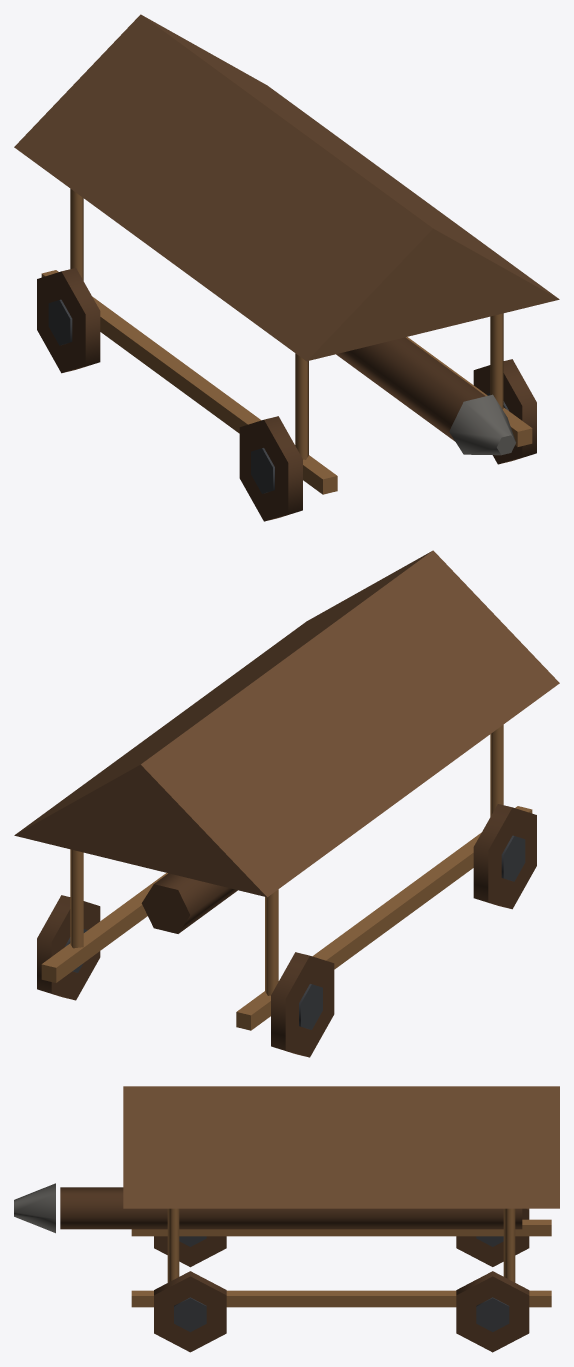
File: unit_mil_ram_a01_lod1.glb
The picture shows the model from 3 angles, top to bottom: view 1: azimuth 30°, elevation 25°; view 2: azimuth 150°, elevation 25°; view 3: azimuth 270°, elevation 25°; orthographic projection. The views are drawn at different scales.
Parts seen in each view (by area): view 1: body, ram, wheel_2, wheel_0, wheel_3; view 2: body, wheel_0, wheel_2, ram, wheel_1; view 3: body, ram, wheel_1, wheel_3, wheel_0, wheel_2.
Part boxes in pixels (bbox=[...]): body: bbox=[14, 14, 559, 494]; ram: bbox=[336, 337, 515, 455]; wheel_2: bbox=[239, 416, 302, 521]; wheel_0: bbox=[37, 268, 100, 373]; wheel_3: bbox=[473, 359, 536, 464]; body: bbox=[14, 550, 559, 1030]; wheel_0: bbox=[271, 952, 334, 1057]; wheel_2: bbox=[473, 804, 536, 909]; ram: bbox=[141, 873, 237, 933]; wheel_1: bbox=[37, 895, 100, 1000]; body: bbox=[123, 1086, 559, 1307]; ram: bbox=[14, 1183, 522, 1233]; wheel_1: bbox=[456, 1271, 529, 1352]; wheel_3: bbox=[154, 1271, 226, 1352]; wheel_0: bbox=[456, 1208, 529, 1266]; wheel_2: bbox=[154, 1236, 226, 1267].
Bounding box in the file's own units: 2.6 × 2.9 × 6.5.
